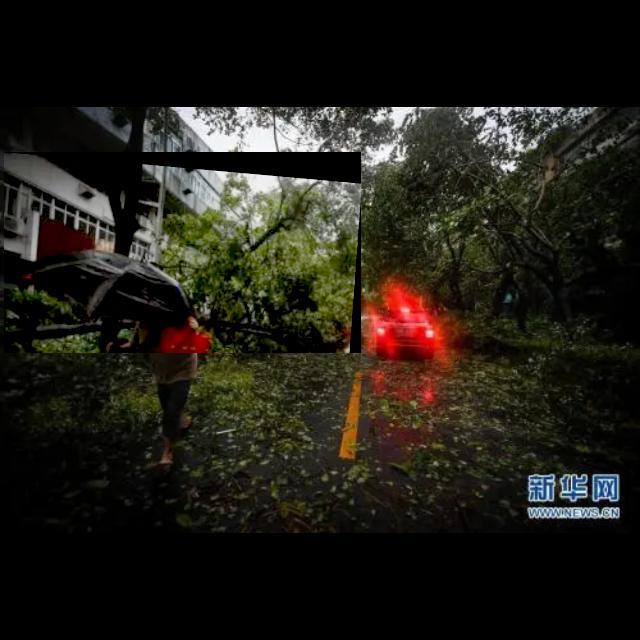fallen_tree: (4, 152, 362, 354)
